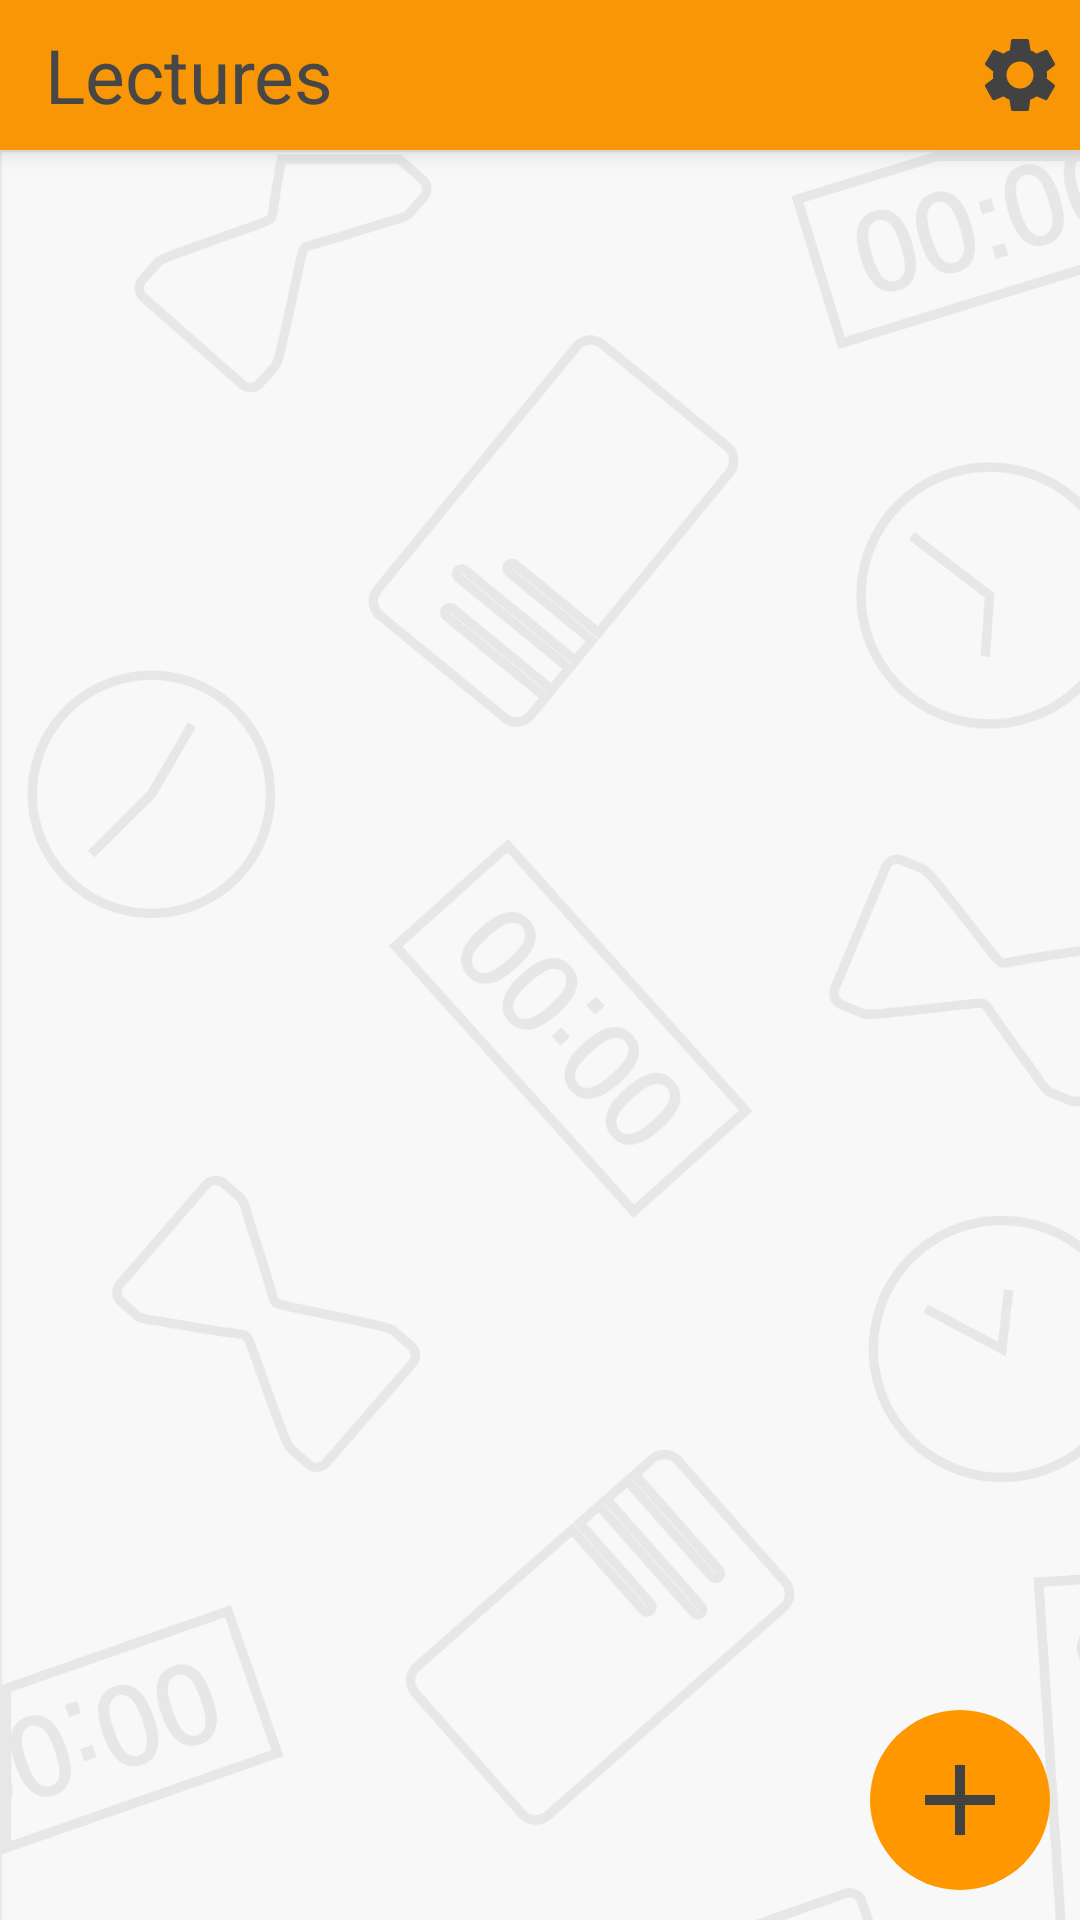

Icons on this 1080×1920 Android screen, each with the point to tap as (x=x, y=y):
add: (x=960, y=1800)
settings: (x=1020, y=75)
